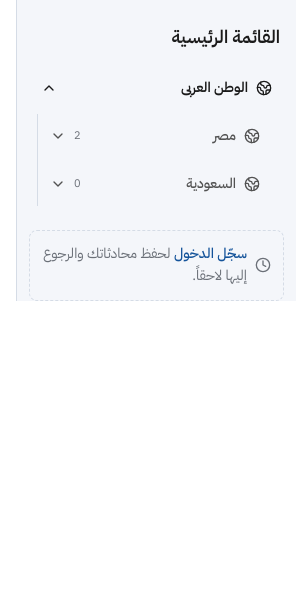
Test: MainSidebar › فشل جلب المراجع يُظهر رسالة خطأ داخل القائمة دون كسر بقية الشجرة
Click the button "مصر 2": (155, 136) 38,114 -> 272,158
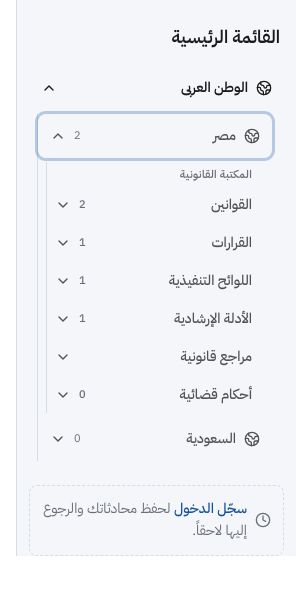
Click the button "مراجع قانونية": (154, 357) 47,339 -> 260,375
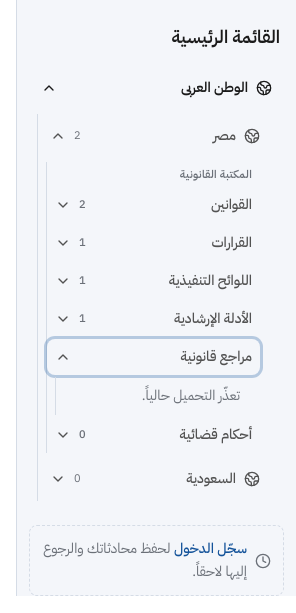
Expected: the button "القوانين 2" is shown, 47,187 -> 260,223
Expected: the text "تعذّر التحميل حالياً." is shown, 142,385 -> 240,406
